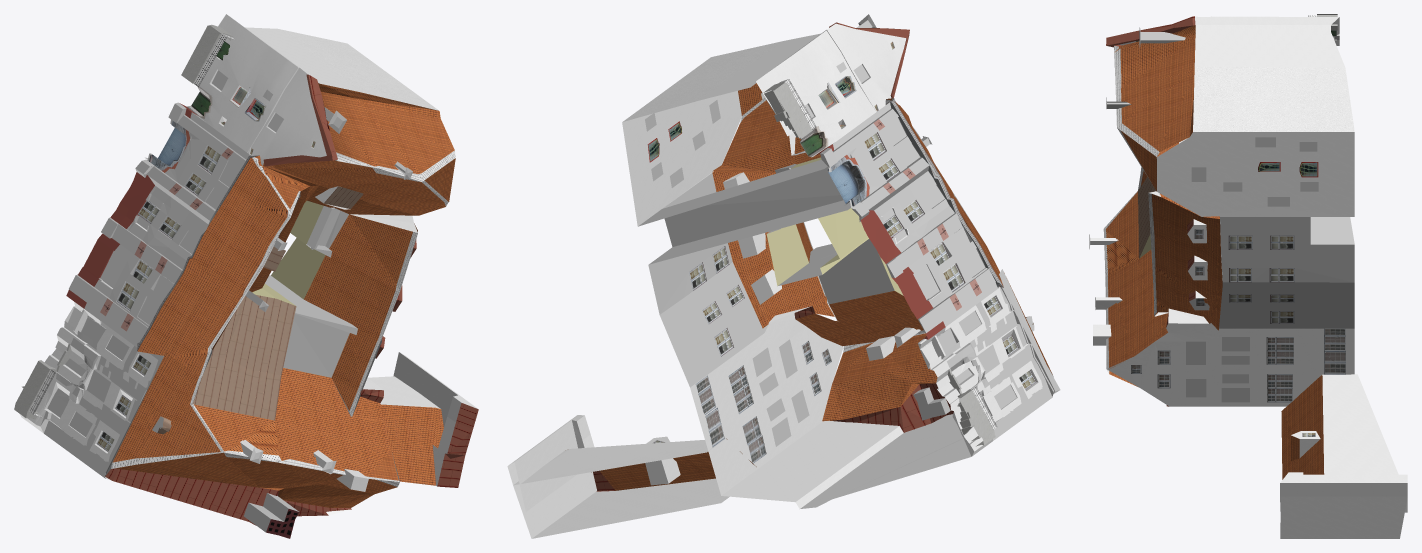
Rendered from Pikk_30-origo.obj.
3 views of the same model, side by side, from view 1: azimuth 30°, elevation 25°; view 2: azimuth 150°, elevation 25°; view 3: azimuth 270°, elevation 25° (orthographic). The views are drawn at different scales.
Visible parts, largest first — view 1: Pikk_30; view 2: Pikk_30; view 3: Pikk_30.
Part boxes in pixels (<box>): Pikk_30: <box>14,14,478,538</box>; Pikk_30: <box>507,14,1060,538</box>; Pikk_30: <box>1089,14,1407,538</box>.
Bounding box in the file's own units: 37.75 × 40.5 × 26.76.
